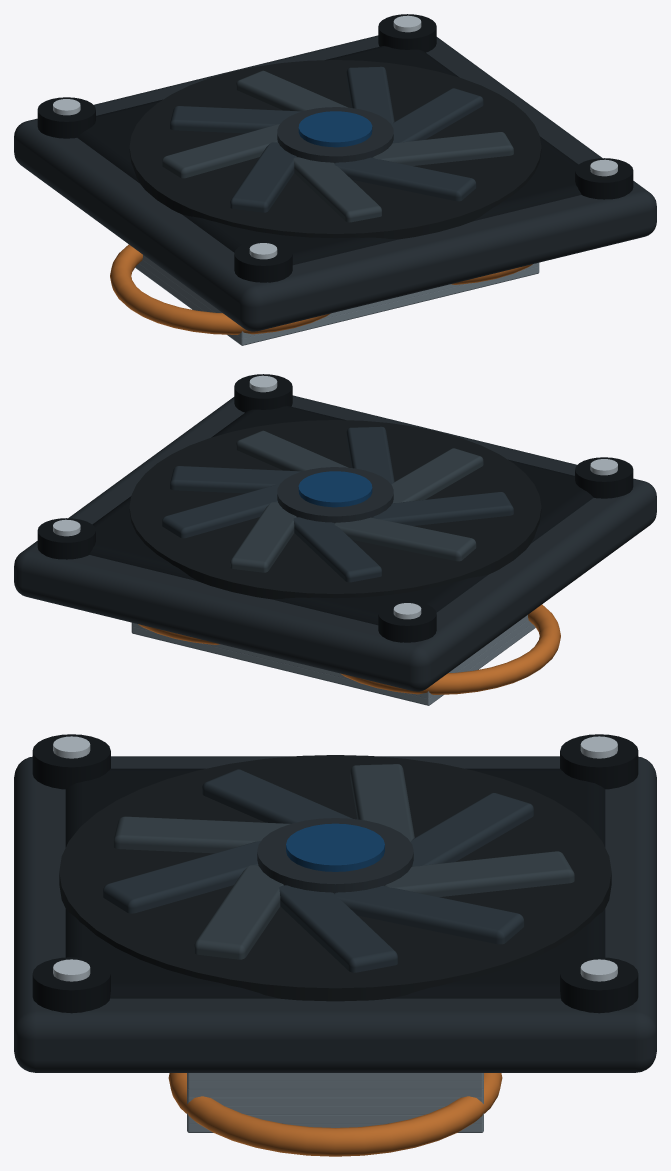
File: cooling-fan.glb
The picture shows the model from 3 angles, top to bottom: view 1: azimuth 30°, elevation 25°; view 2: azimuth 150°, elevation 25°; view 3: azimuth 270°, elevation 25°; orthographic projection. The views are drawn at different scales.
Visible parts, largest first — view 1: Fan frame, Fan cavity, Premium CPU cooling fan, Sculpted fan blade (×9), Motor hub; view 2: Fan frame, Fan cavity, Premium CPU cooling fan, Sculpted fan blade (×9), Motor hub; view 3: Fan frame, Premium CPU cooling fan, Fan cavity, Sculpted fan blade (×9), Motor hub.
Part boxes in pixels (x1,y1,x2,y2): Fan frame: [14, 35, 656, 331]; Fan cavity: [129, 60, 541, 239]; Premium CPU cooling fan: [37, 14, 633, 345]; Sculpted fan blade (×9): [162, 66, 513, 222]; Motor hub: [277, 107, 393, 162]; Fan frame: [14, 395, 656, 691]; Fan cavity: [129, 420, 541, 599]; Premium CPU cooling fan: [37, 374, 633, 705]; Sculpted fan blade (×9): [162, 426, 513, 582]; Motor hub: [277, 467, 393, 522]; Fan frame: [14, 756, 656, 1072]; Premium CPU cooling fan: [32, 734, 638, 1156]; Fan cavity: [59, 755, 611, 1001]; Sculpted fan blade (×9): [103, 764, 574, 972]; Motor hub: [257, 818, 413, 893].
Size of the model in its own units: 1.57 by 0.5135 by 1.56.
